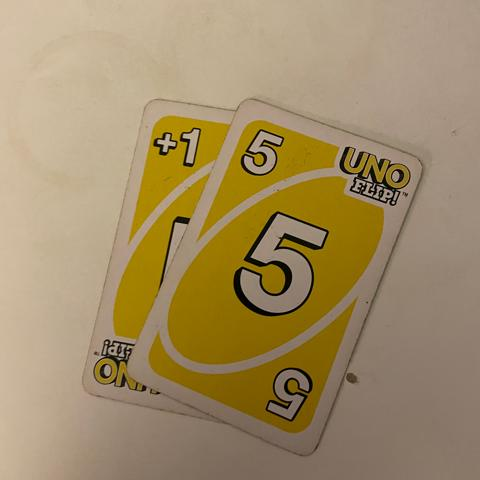lyellow-10: (148, 118, 204, 176)
lyellow-5: (236, 112, 292, 182)
